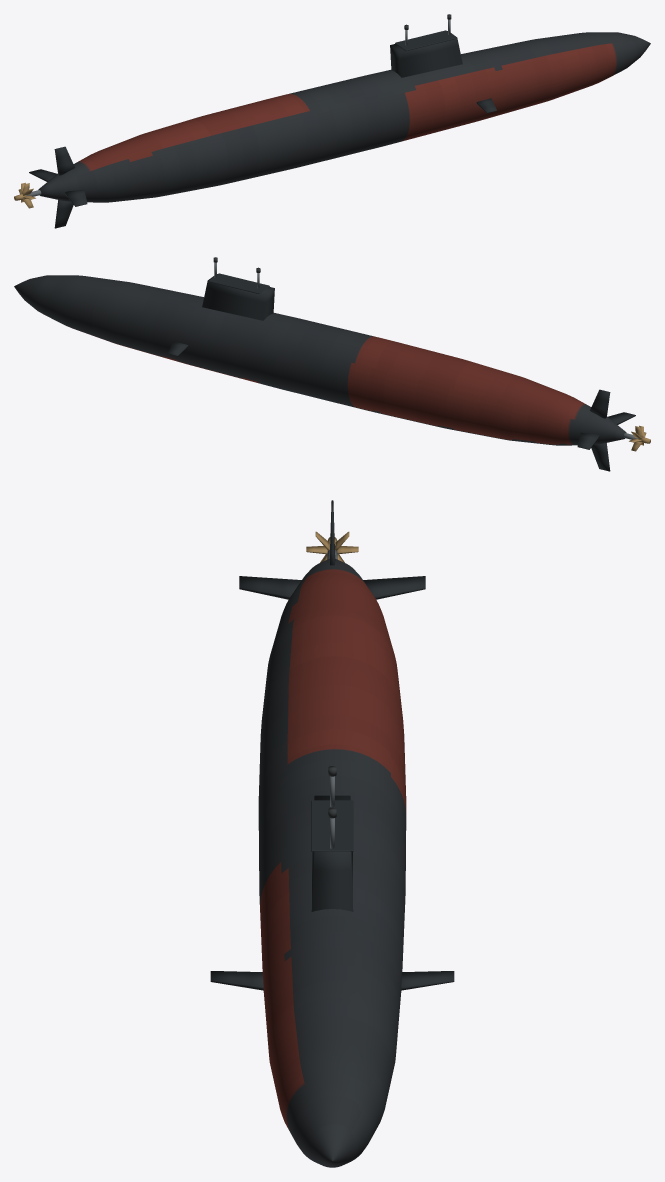
File: US_SSN_Sturgeon.glb
The picture shows the model from 3 angles, top to bottom: view 1: azimuth 30°, elevation 25°; view 2: azimuth 150°, elevation 25°; view 3: azimuth 270°, elevation 25°; orthographic projection. The views are drawn at different scales.
Parts seen in each view (by area): view 1: US_SSN_Sturgeon_LOD0; view 2: US_SSN_Sturgeon_LOD0; view 3: US_SSN_Sturgeon_LOD0.
Part boxes in pixels (x1=…): US_SSN_Sturgeon_LOD0: x1=14, y1=14, x2=650, y2=228; US_SSN_Sturgeon_LOD0: x1=14, y1=257, x2=650, y2=471; US_SSN_Sturgeon_LOD0: x1=210, y1=500, x2=454, y2=1167.
Size of the model in its own units: 95.88 by 16.85 by 15.91.
6 materials, 1 textured.
